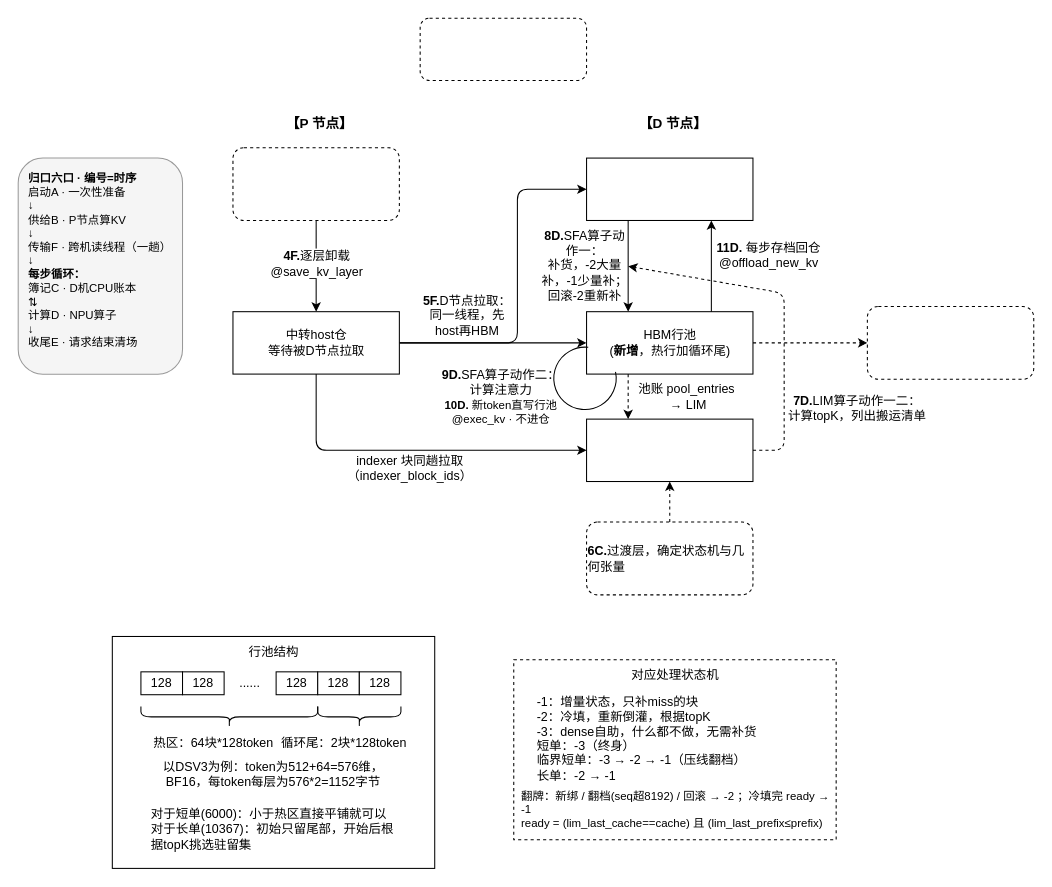
The diagram is 1052 pixels wide and 887 high, and some of its shapes have lost their labels. The shapes that lost their labels are listed below. From the top down, each one's centre as x and y in pixels, then its label:
At point (503, 49): "1A. buffer分配，地址绑死 @bind_copy_sfa_kv_cache".
At point (315, 183): "2B. 计算KV(HBM分页缓存) 量长度，判长短，分配空间 3C. 写五元组单据@build_connector_meta".
At point (669, 188): "host DRAM全量仓 (分页缓存)".
At point (950, 342): "12E. 退格，擦账，退役名单 #17708：账跟化身不跟格".
At point (669, 450): "HBM-indexer专属缓存 打分挑选补货清单".
